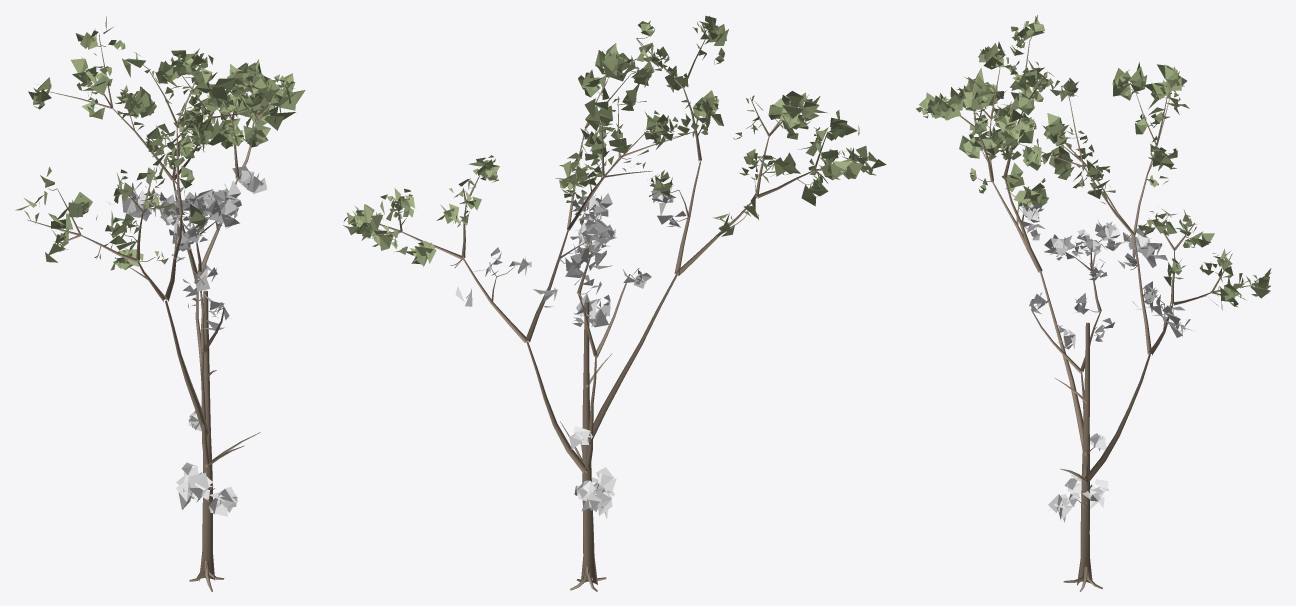
Rendered from tree-b-close.glb.
The picture shows the model from 3 angles, left to right: view 1: azimuth 30°, elevation 25°; view 2: azimuth 150°, elevation 25°; view 3: azimuth 270°, elevation 25°; orthographic projection. The views are drawn at different scales.
Parts seen in each view (by area): view 1: leafB, wood, leafBDeep; view 2: leafB, wood, leafBDeep; view 3: leafB, wood, leafBDeep.
Boxes of the visible parts, x1=… form: leafB: x1=15, y1=16, x2=305, y2=270; wood: x1=27, y1=33, x2=278, y2=591; leafBDeep: x1=121, y1=166, x2=267, y2=516; leafB: x1=343, y1=15, x2=886, y2=266; wood: x1=356, y1=35, x2=861, y2=591; leafBDeep: x1=454, y1=185, x2=686, y2=518; leafB: x1=916, y1=15, x2=1271, y2=310; wood: x1=959, y1=33, x2=1253, y2=591; leafBDeep: x1=1021, y1=202, x2=1192, y2=522.
Bounding box in the file's own units: 16.09 × 21.81 × 13.72.
